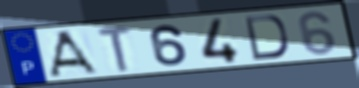4: (200, 16, 243, 65)
6: (296, 9, 339, 57), (147, 23, 190, 68)
A: (47, 29, 101, 78)
D: (243, 13, 292, 62)
T: (94, 25, 135, 74)
